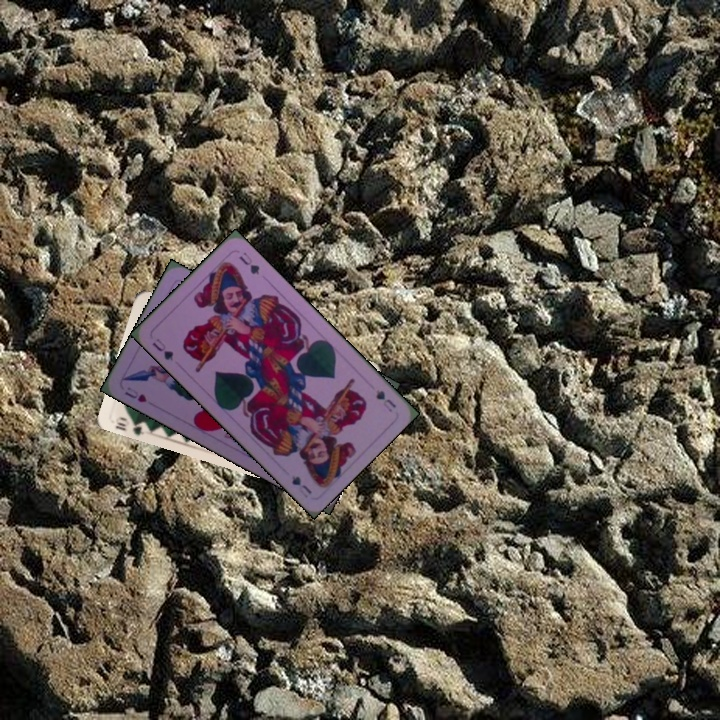G10: (111, 413, 151, 437)
GU: (148, 334, 176, 363), (372, 386, 399, 415)
HU: (120, 383, 149, 405)
